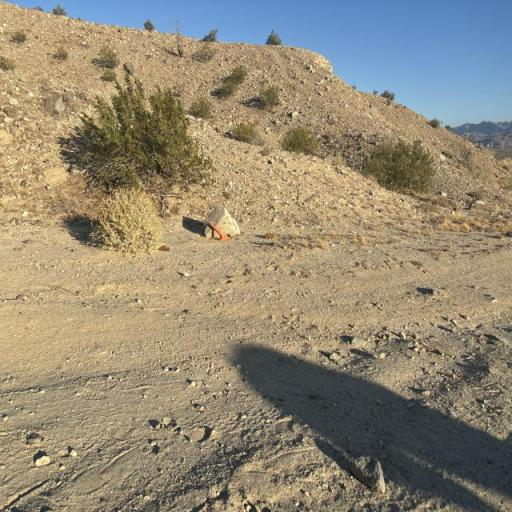mallet: (206, 217, 230, 243)
